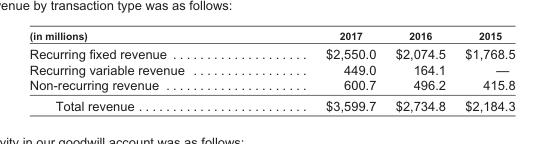table: (28, 29, 514, 112)
table column: (28, 29, 254, 112), (254, 29, 385, 112), (385, 29, 454, 112), (454, 29, 514, 112)
table column header: (28, 29, 514, 43)
table row: (28, 43, 514, 61), (28, 77, 514, 95), (28, 95, 514, 112), (28, 61, 514, 77), (28, 29, 514, 43)
